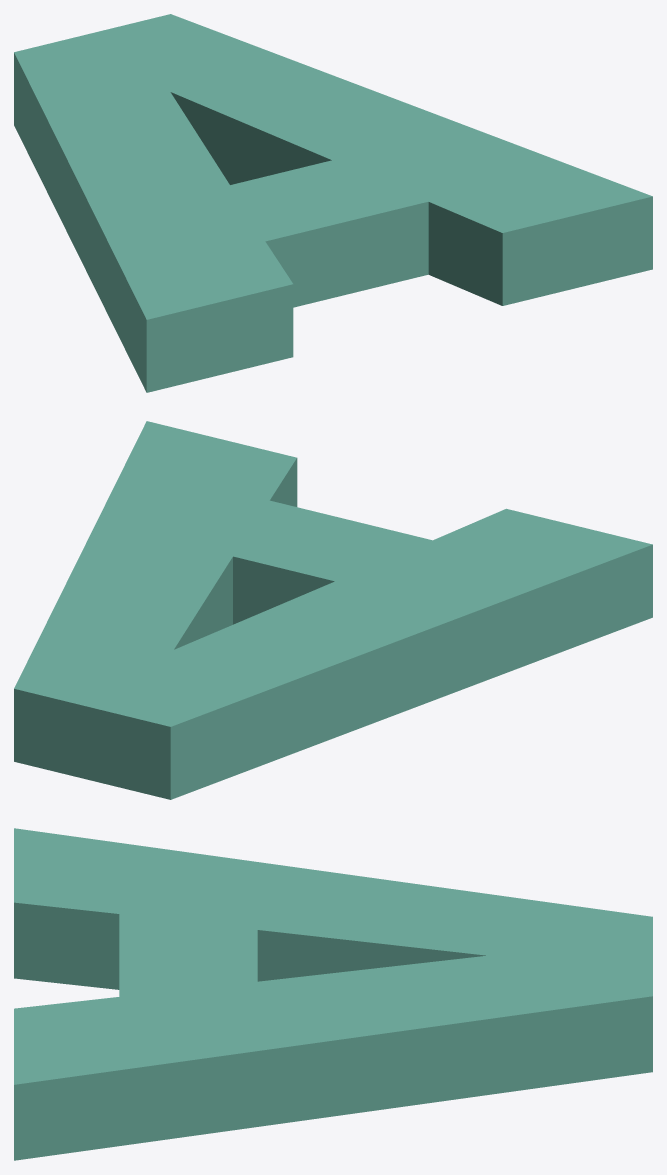
Rendered from vocal_a.glb.
3 views of the same model, one above another, from view 1: azimuth 30°, elevation 25°; view 2: azimuth 150°, elevation 25°; view 3: azimuth 270°, elevation 25° (orthographic). The views are drawn at different scales.
Visible parts, largest first — view 1: Mesh_Mesh_head_geo.001_lambert2SG.001; view 2: Mesh_Mesh_head_geo.001_lambert2SG.001; view 3: Mesh_Mesh_head_geo.001_lambert2SG.001.
Boxes of the visible parts, x1=… form: Mesh_Mesh_head_geo.001_lambert2SG.001: x1=14, y1=14, x2=652, y2=392; Mesh_Mesh_head_geo.001_lambert2SG.001: x1=14, y1=421, x2=652, y2=799; Mesh_Mesh_head_geo.001_lambert2SG.001: x1=14, y1=828, x2=652, y2=1160.
Size of the model in its own units: 0.029 by 0.004 by 0.0305.
